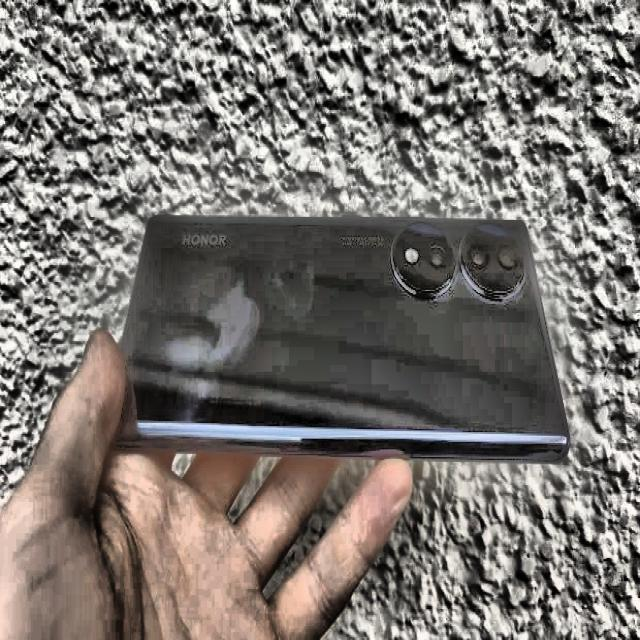Phone: (111, 212, 577, 462)
